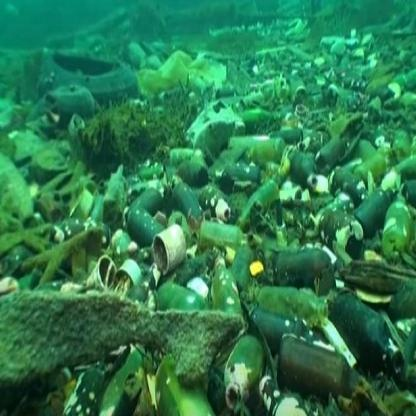gbottle: (273, 335, 371, 416), (250, 244, 348, 313), (212, 316, 276, 412), (114, 266, 203, 332), (174, 164, 222, 257), (378, 174, 416, 268), (287, 138, 327, 198)
